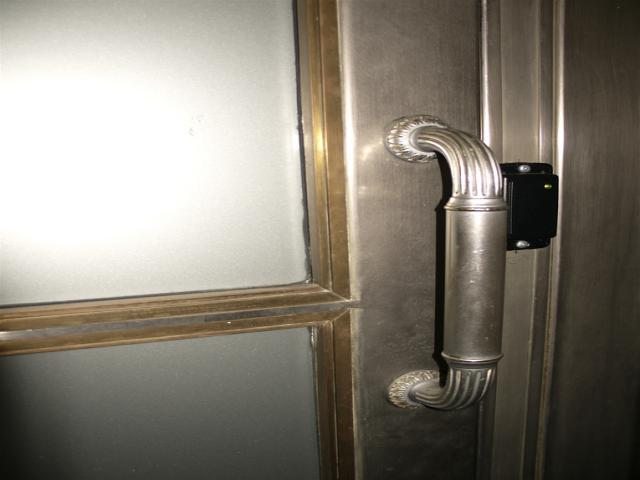Door-handle: (387, 114, 511, 410)
